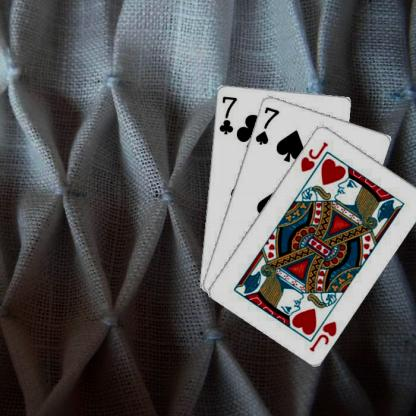7C: (216, 94, 238, 136)
7S: (252, 104, 280, 146)
JH: (298, 139, 329, 173), (307, 318, 338, 352)
